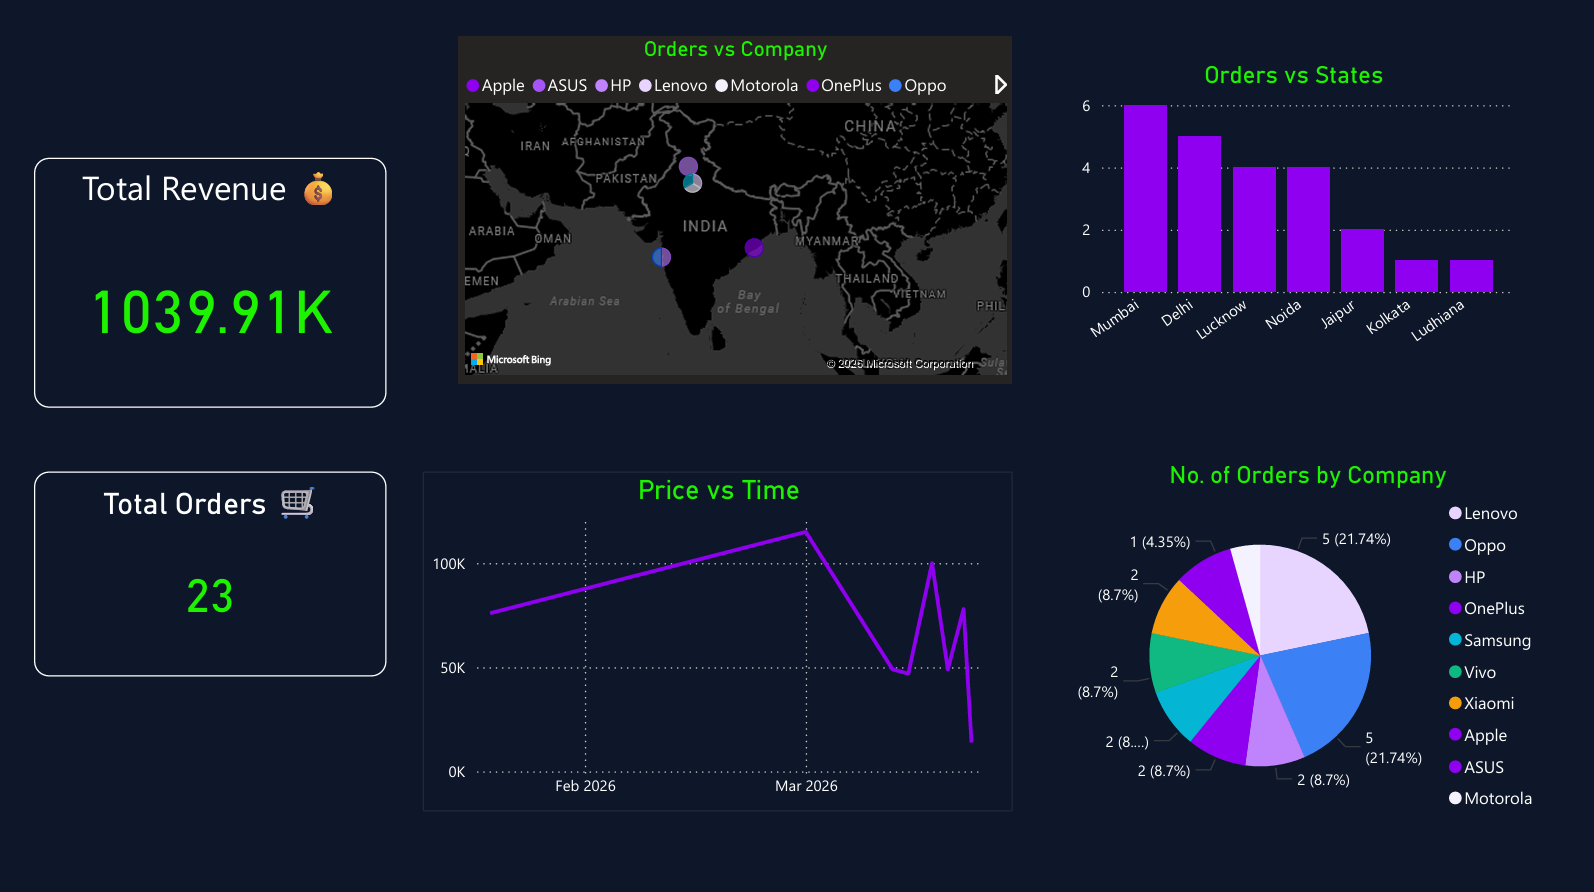

What the dashboard file says about the page in this screenshot:
{"tool":"powerbi","page":{"name":"Page 1","canvas":[1280,720],"ordinal":0},"visuals":[{"type":"pieChart","fields":{"Category":["view-orders.Orders.products.productData.company"],"Y":["CountNonNull(view-orders.Orders.user_id)"]},"box":[853.8,368.8,387.5,290],"z":0},{"type":"columnChart","title":"Orders vs States","fields":{"Y":["CountNonNull(view-orders.Orders.products.productData.company)"],"Category":["view-orders.Orders.address.1.2"]},"box":[853.8,48.8,363.8,247.5],"z":1000},{"type":"lineChart","title":"Price vs Time","fields":{"Y":["Max(view-orders.Orders.products.productData.discountPrice)"],"Category":["view-orders.Orders.orderedAt.Variation.Date Hierarchy.Year","view-orders.Orders.orderedAt.Variation.Date Hierarchy.Month","view-orders.Orders.orderedAt.Variation.Date Hierarchy.Day"]},"box":[338.8,377.5,472.5,272.5],"z":2000},{"type":"map","title":"Orders vs Company","fields":{"Series":["view-orders.Orders.products.productData.company"],"Category":["view-orders.Orders.address.1.2","view-orders.Orders.address.2.1","view-orders.Orders.address.1.1"]},"box":[367.5,30,443.8,277.5],"z":3000},{"type":"card","title":"Total Revenue 💰","fields":{"Values":["view-orders.Total Revenue"]},"box":[28.3,126.7,281.7,200],"z":3001},{"type":"card","title":"Total Orders 🛒","fields":{"Values":["Count(view-orders.Orders.products._id)"]},"box":[28.3,378.3,281.7,163.3],"z":3002}]}

Visuals, with their boxes in screenshot pixels (x1, y1, x2, y2), scaled from the page's 1280x720 canvas onto the 1594x892 screenshot:
pieChart - view-orders.Orders.products.productData.company x CountNonNull(view-orders.Orders.user_id): (1063,457,1546,816)
"Orders vs States" columnChart: (1063,60,1516,367)
"Price vs Time" lineChart: (422,468,1010,805)
"Orders vs Company" map: (458,37,1010,381)
"Total Revenue 💰" card: (35,157,386,405)
"Total Orders 🛒" card: (35,469,386,671)
